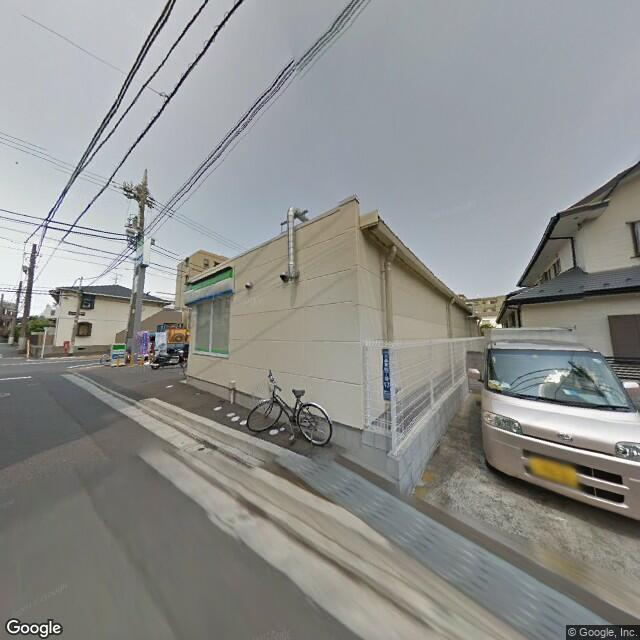family_mart: (183, 264, 237, 307)
